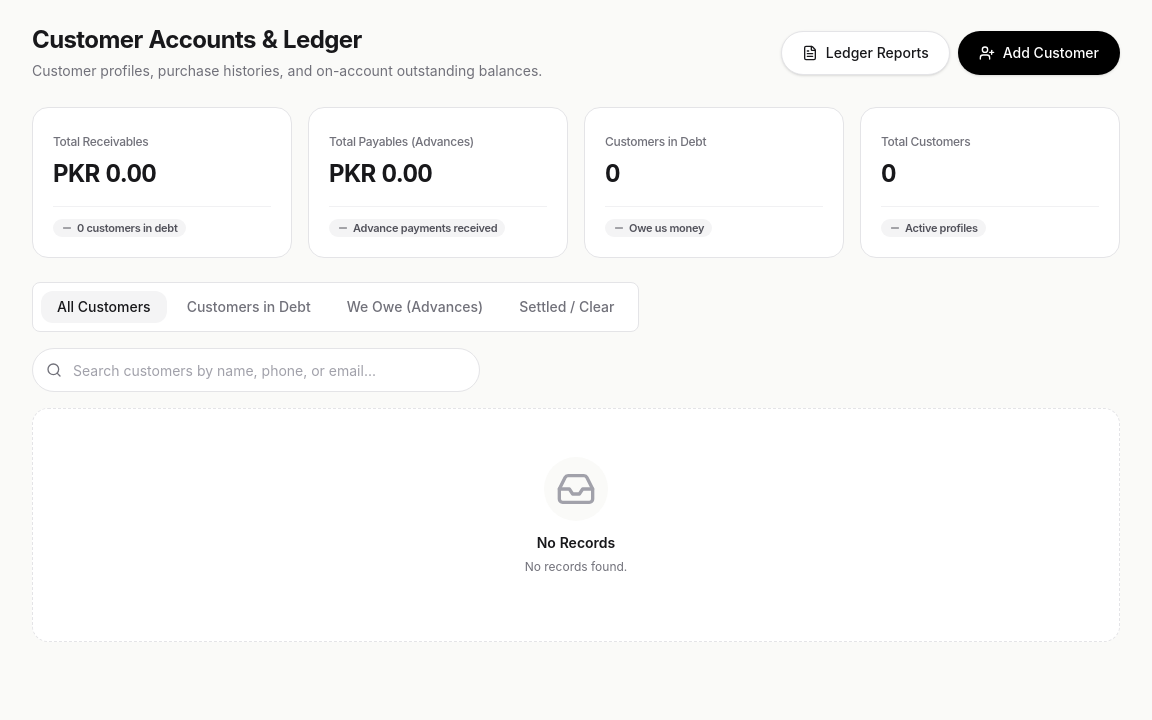
Test: customer form parity › offers every Edit field on the Add form, including Email
Expected: the heading "Customer Accounts & Ledger" is shown, [32,25,362,54]
Click the button "Add Customer" at [1039, 53], box [958,31,1120,75]
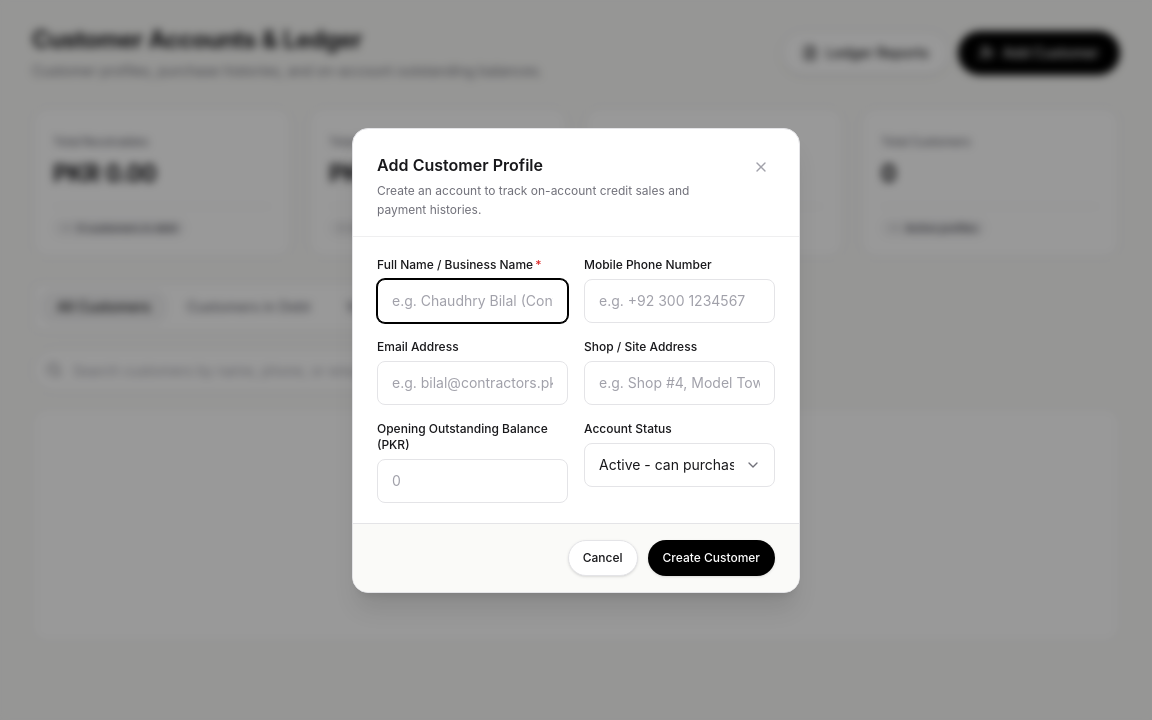
Expected: the heading "Add Customer Profile" is shown, [377,154,543,174]
Expected: the element that starts with "Add Customer Profile" is shown
Expected: the label "Full Name / Business Name*" is shown, [377,256,568,272]
